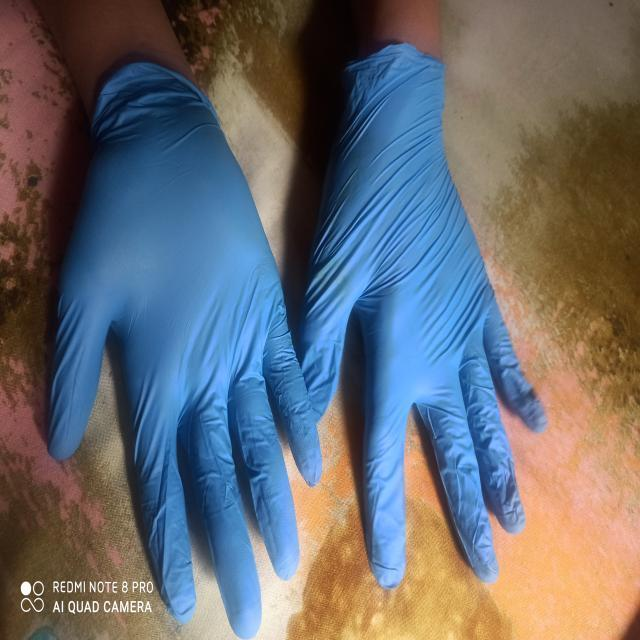glove_hand: (36, 56, 324, 640), (292, 36, 552, 594)
